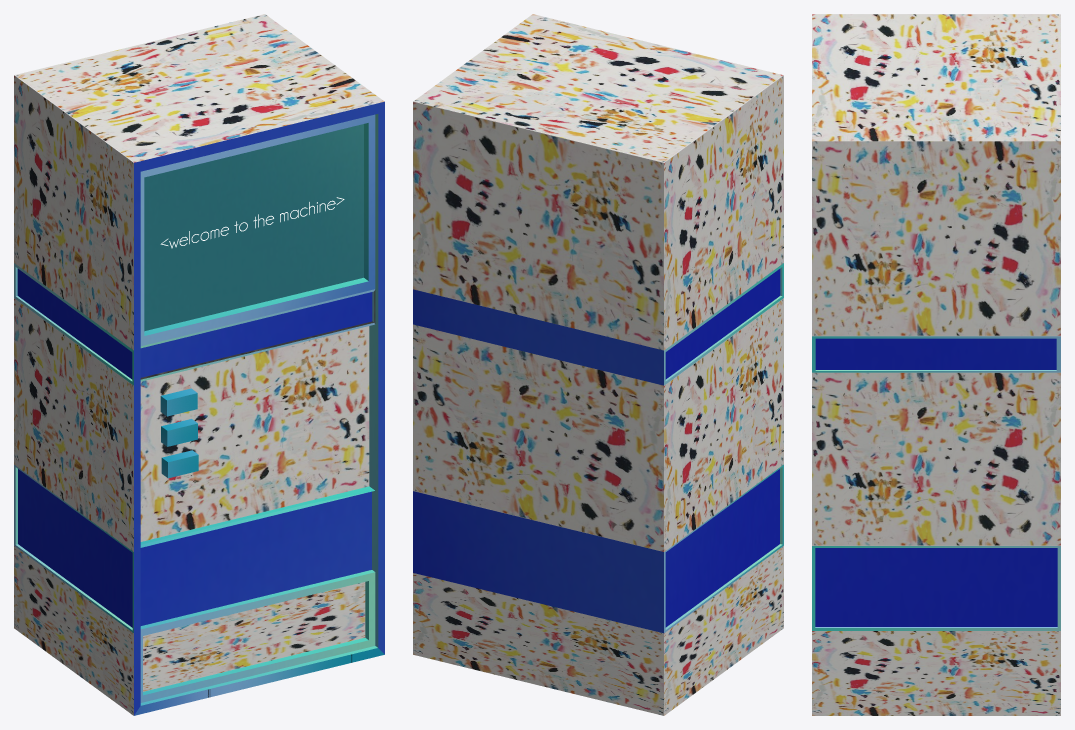
The model's file is machine1_v3.gltf.
The picture shows the model from 3 angles, left to right: view 1: azimuth 30°, elevation 25°; view 2: azimuth 150°, elevation 25°; view 3: azimuth 270°, elevation 25°; orthographic projection. The views are drawn at different scales.
Visible parts, largest first — view 1: Cube.006, Cube.008, Cube.010, Cube.009, Text; view 2: Cube.006; view 3: Cube.006.
Part boxes in pixels (x1=…): Cube.006: x1=14, y1=14, x2=384, y2=715; Cube.008: x1=160, y1=388, x2=197, y2=416; Cube.010: x1=161, y1=450, x2=198, y2=478; Cube.009: x1=161, y1=419, x2=197, y2=446; Text: x1=160, y1=197, x2=344, y2=248; Cube.006: x1=413, y1=14, x2=783, y2=715; Cube.006: x1=812, y1=14, x2=1060, y2=715.
Bounding box in the file's own units: 1.43 × 3.02 × 1.18.
4 materials, 3 textured.
